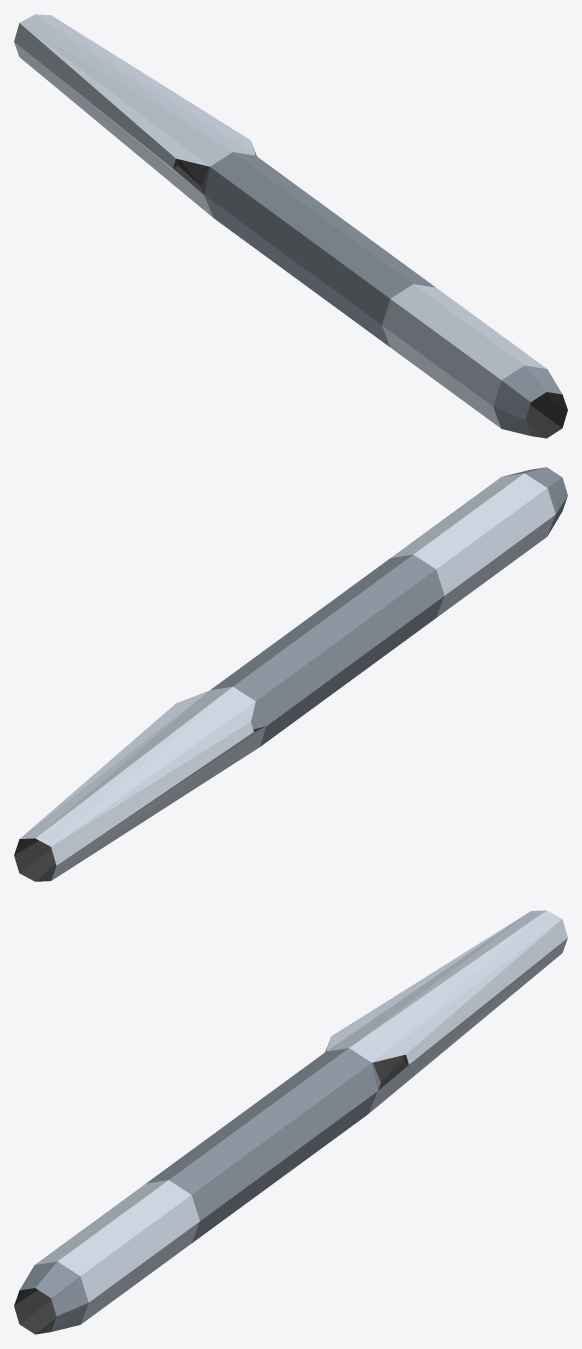
File: houdai2.FBX
3 renders of one model, top to bottom at view 1: azimuth 30°, elevation 25°; view 2: azimuth 150°, elevation 25°; view 3: azimuth 330°, elevation 25°, orthographic.
Visible parts, largest first — view 1: VIFS003, VIFS002, VIFS001; view 2: VIFS003, VIFS002, VIFS001; view 3: VIFS003, VIFS002, VIFS001.
Boxes of the visible parts, left/top/right/bottom form: VIFS003: left=14, top=14, right=546, bottom=428; VIFS002: left=201, top=152, right=561, bottom=435; VIFS001: left=173, top=147, right=567, bottom=438; VIFS003: left=20, top=473, right=555, bottom=880; VIFS002: left=211, top=467, right=567, bottom=746; VIFS001: left=14, top=726, right=265, bottom=881; VIFS003: left=35, top=910, right=567, bottom=1324; VIFS002: left=20, top=1048, right=380, bottom=1331; VIFS001: left=14, top=1043, right=408, bottom=1334.
Size of the model in its own units: 0.0406 by 0.0322 by 0.4449.
